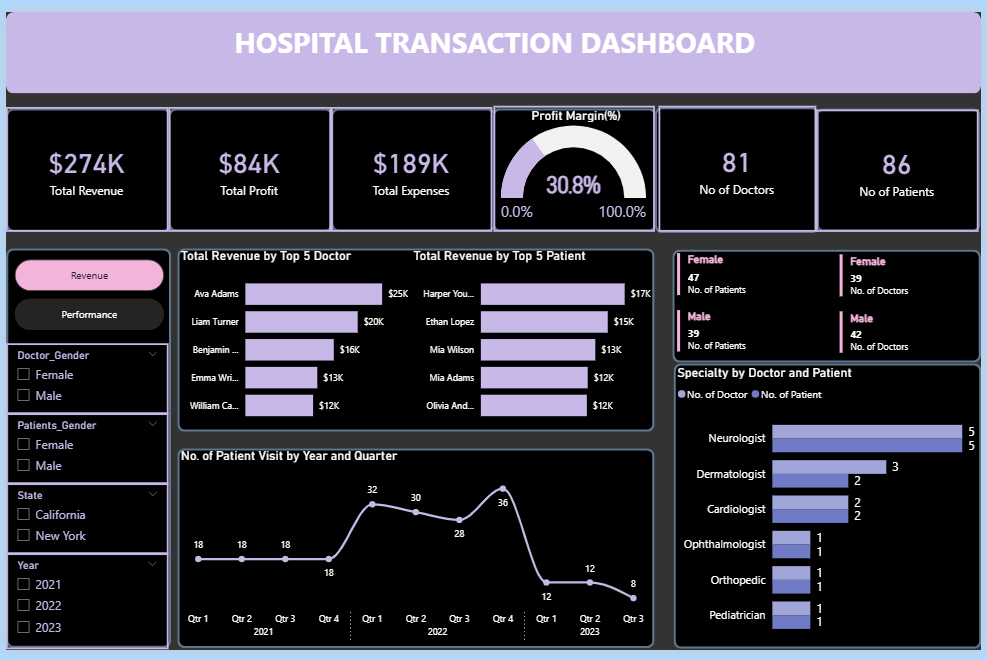

The dashboard page shown, as its layout file describes it:
{"tool":"powerbi","page":{"name":"Performance","canvas":[1300,850],"ordinal":1},"visuals":[{"type":"shape","box":[0,0,1300,108.8],"z":0},{"type":"shape","box":[0,127.8,220,165],"z":1000},{"type":"shape","box":[1080.7,128.1,219.3,164.5],"z":2000},{"type":"shape","box":[216.7,128.1,219.3,164.5],"z":3000},{"type":"shape","box":[432.7,128.1,219.3,164.5],"z":4000},{"type":"shape","box":[648.7,128.1,219.3,164.5],"z":5000},{"type":"shape","box":[864.7,126.1,219.3,168.4],"z":6000},{"type":"shape","box":[0,315.5,220.3,533.1],"z":7000},{"type":"shape","box":[228.5,582,636.4,266.5],"z":8000},{"type":"shape","box":[228.5,315.5,636.4,244.8],"z":9000},{"type":"shape","box":[889.3,467.8,410.7,380.8],"z":10000},{"type":"shape","box":[888.7,316.2,411.6,151],"z":11000},{"type":"card","fields":{"Values":["Calculated Measures.Total Revenue"]},"box":[0,126.7,216.7,166.7],"z":12000},{"type":"card","fields":{"Values":["Calculated Measures.Total Profit"]},"box":[216.7,126.7,216.7,166.7],"z":13000},{"type":"card","fields":{"Values":["Calculated Measures.Total Expenses"]},"box":[433.3,126.7,215,166.7],"z":14000},{"type":"card","fields":{"Values":["Patient Dim.PatientID"]},"box":[1080,130,216.7,163.3],"z":15000},{"type":"gauge","fields":{"Y":["Calculated Measures.Profit Margin(%)"]},"box":[650,125,215,168.3],"z":16000},{"type":"card","fields":{"Values":["Doctor Dim.DoctorID"]},"box":[870,125,210,168.3],"z":17000},{"type":"lineChart","fields":{"Category":["Calendar Dim.Date.Variation.Date Hierarchy.Year","Calendar Dim.Date.Variation.Date Hierarchy.Quarter","Calendar Dim.Date.Variation.Date Hierarchy.Month"],"Y":["Hospital Transactions.PatientID"]},"box":[228.3,581.7,636.7,266.7],"z":18000},{"type":"clusteredBarChart","title":"Total Revenue by Top 5 Doctor","fields":{"Y":["Calculated Measures.Total Revenue"],"Category":["Doctor Dim.Doctor Name"]},"box":[228.3,315,313.3,245],"z":19000},{"type":"slicer","fields":{"Values":["Patient Dim.Patients_Gender"]},"box":[0.7,534.8,217.1,94.3],"z":20000},{"type":"slicer","fields":{"Values":["Location Dim.State"]},"box":[0.7,628.3,217.1,94.3],"z":21000},{"type":"slicer","fields":{"Values":["Calendar Dim.Date.Variation.Date Hierarchy.Year"]},"box":[0,721.7,216.7,128.3],"z":22000},{"type":"slicer","fields":{"Values":["Doctor Dim.Doctor_Gender"]},"box":[0.7,441.4,217.1,94.3],"z":23000},{"type":"clusteredBarChart","title":"Total Revenue by Top 5 Patient","fields":{"Y":["Calculated Measures.Total Revenue"],"Category":["Patient Dim.Patient Name"]},"box":[538.3,315,326.7,245],"z":24000},{"type":"clusteredBarChart","title":"Specialty by Doctor and Patient","fields":{"Category":["Doctor Dim.Specialty"],"Y":["Hospital Transactions.DoctorID","Hospital Transactions.PatientID"]},"box":[890.2,470,408.8,377.4],"z":25000},{"type":"multiRowCard","fields":{"Values":["Patient Dim.Patients_Gender","Patient Dim.Patients_Gender"]},"box":[890.2,316.2,193.7,172.3],"z":26000},{"type":"multiRowCard","fields":{"Values":["Doctor Dim.Doctor_Gender","Doctor Dim.Doctor_Gender"]},"box":[1106.7,317.6,193.7,172.3],"z":27000},{"type":"textbox","box":[3.3,10,1296.7,75],"z":28000},{"type":"pageNavigator","box":[11.4,330.4,199.4,94],"z":29000}]}

Visuals, with their boxes in screenshot pixels (x1, y1, x2, y2), scaled from the page's 1300x850 canvas onto the 987x660 screenshot:
shape: (0, 0, 986, 84)
shape: (0, 99, 167, 227)
shape: (821, 99, 986, 227)
shape: (165, 99, 331, 227)
shape: (329, 99, 495, 227)
shape: (493, 99, 659, 227)
shape: (657, 98, 823, 229)
shape: (0, 245, 167, 659)
shape: (173, 452, 657, 659)
shape: (173, 245, 657, 435)
shape: (675, 363, 986, 659)
shape: (675, 246, 986, 363)
card - Calculated Measures.Total Revenue: (0, 98, 165, 228)
card - Calculated Measures.Total Profit: (165, 98, 329, 228)
card - Calculated Measures.Total Expenses: (329, 98, 492, 228)
card - Patient Dim.PatientID: (820, 101, 984, 228)
gauge - Calculated Measures.Profit Margin(%): (494, 97, 657, 228)
card - Doctor Dim.DoctorID: (661, 97, 820, 228)
lineChart - Calendar Dim.Date.Variation.Date Hierarchy.Year x Calendar Dim.Date.Variation.Date Hierarchy.Quarter: (173, 452, 657, 659)
"Total Revenue by Top 5 Doctor" clusteredBarChart: (173, 245, 411, 435)
slicer - Patient Dim.Patients_Gender: (1, 415, 165, 488)
slicer - Location Dim.State: (1, 488, 165, 561)
slicer - Calendar Dim.Date.Variation.Date Hierarchy.Year: (0, 560, 165, 659)
slicer - Doctor Dim.Doctor_Gender: (1, 343, 165, 416)
"Total Revenue by Top 5 Patient" clusteredBarChart: (409, 245, 657, 435)
"Specialty by Doctor and Patient" clusteredBarChart: (676, 365, 986, 658)
multiRowCard - Patient Dim.Patients_Gender x Patient Dim.Patients_Gender: (676, 246, 823, 379)
multiRowCard - Doctor Dim.Doctor_Gender x Doctor Dim.Doctor_Gender: (840, 247, 986, 380)
textbox: (3, 8, 986, 66)
pageNavigator: (9, 257, 160, 330)
